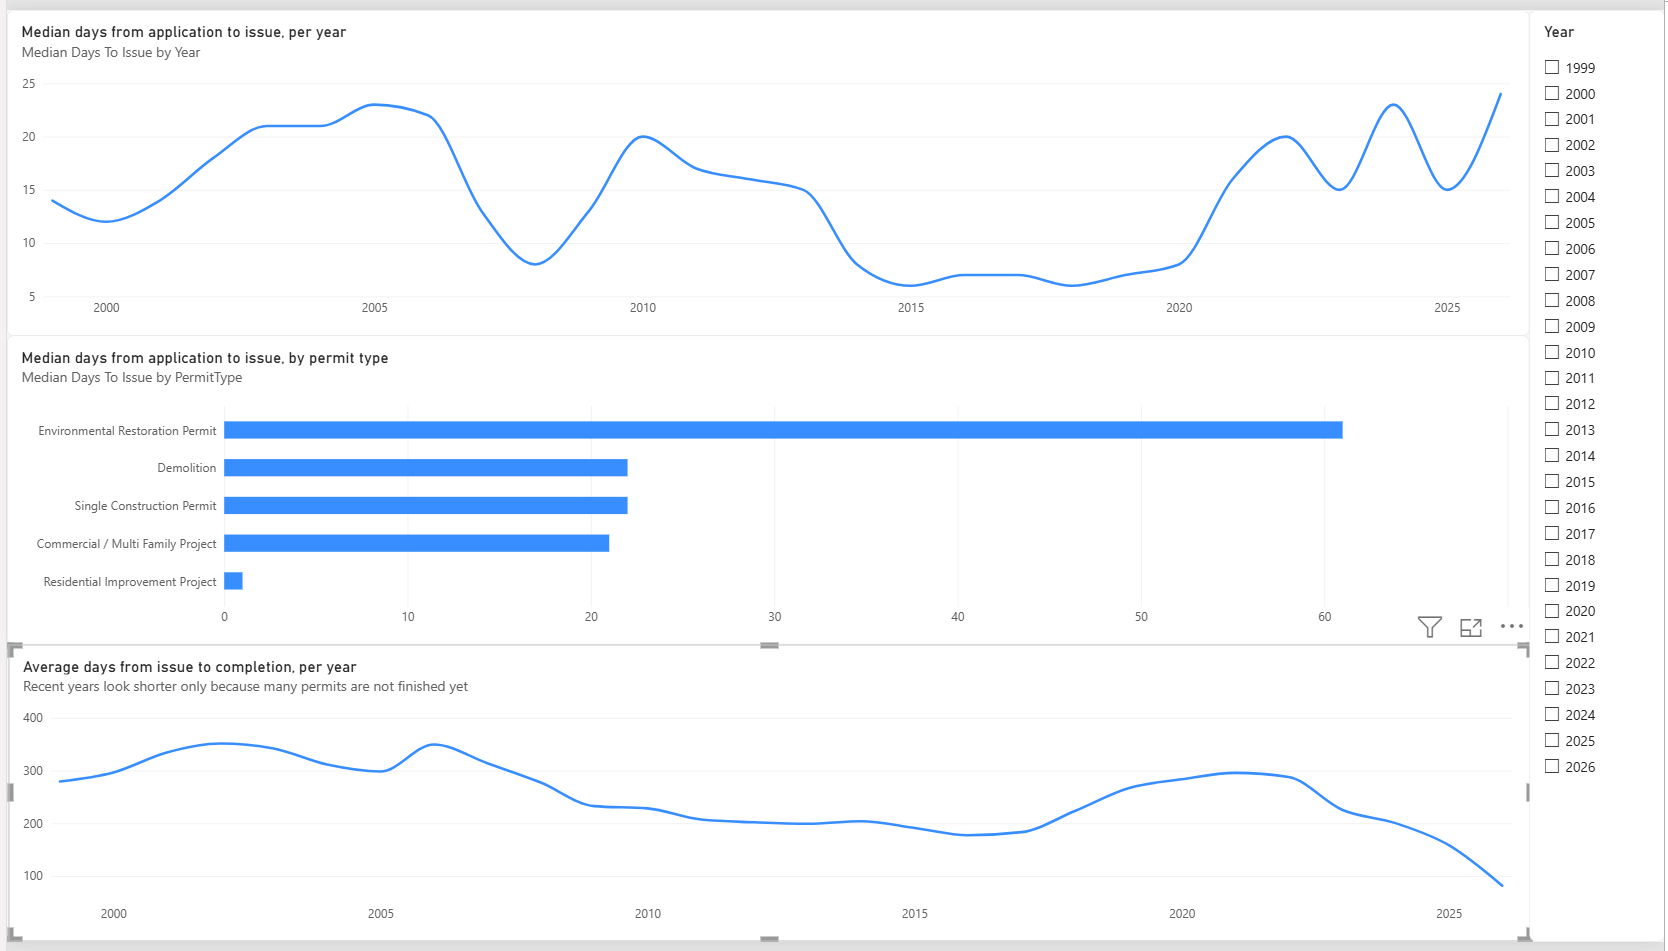

The page's visual inventory and layout, read from the dashboard file:
{"tool":"powerbi","page":{"name":"Processing time","canvas":[1920,1080],"ordinal":2},"visuals":[{"type":"lineChart","title":"Median days from application to issue, per year","fields":{"Category":["Calendar.Year"],"Y":["Permits.Median Days To Issue"]},"box":[0,0,1764.2,377.2],"z":0},{"type":"clusteredBarChart","title":"Median days from application to issue, by permit type","fields":{"Category":["Permits.PermitType"],"Y":["Permits.Median Days To Issue"]},"box":[0,377.2,1764.2,358],"z":1000},{"type":"lineChart","title":"Average days from issue to completion, per year","fields":{"Category":["Calendar.Year"],"Y":["Permits.Avg Days Issue To Comlete"]},"box":[1.7,735.2,1764.2,344.1],"z":2000},{"type":"listSlicer","fields":{"Values":["Calendar.Year"]},"box":[1763.6,0,156.4,1079.4],"z":2001}]}

Visuals, with their boxes in screenshot pixels (x1, y1, x2, y2), scaled from the page's 1920x1080 canvas onto the 1668x951 screenshot:
"Median days from application to issue, per year" lineChart: l=0, t=0, r=1533, b=332
"Median days from application to issue, by permit type" clusteredBarChart: l=0, t=332, r=1533, b=647
"Average days from issue to completion, per year" lineChart: l=1, t=647, r=1534, b=950
listSlicer - Calendar.Year: l=1532, t=0, r=1667, b=950
